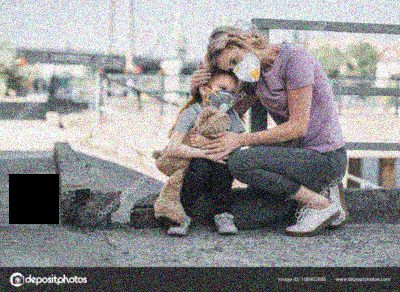with_mask: (226, 51, 262, 82), (206, 83, 238, 114)
